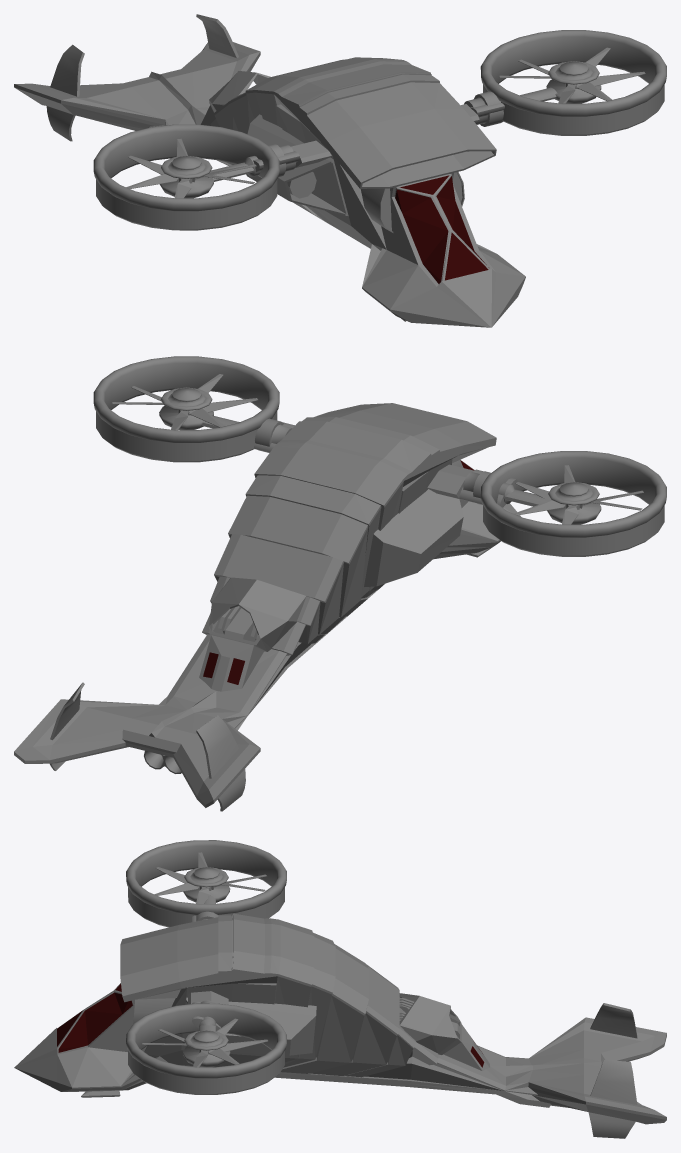
Rendered from drone.FBX.
The picture shows the model from 3 angles, top to bottom: view 1: azimuth 30°, elevation 25°; view 2: azimuth 150°, elevation 25°; view 3: azimuth 270°, elevation 25°; orthographic projection. The views are drawn at different scales.
Parts seen in each view (by area): view 1: Object115, Object117, Object119, Object118, Object116; view 2: Object115, Object117, Object119; view 3: Object115, Object117, Object119, Object118, Object116.
Part boxes in pixels (box(x1,y1,x2,y2)): Object115: box(14, 14, 666, 327); Object117: box(518, 59, 645, 103); Object119: box(128, 155, 256, 198); Object118: box(126, 138, 254, 188); Object116: box(499, 47, 611, 100); Object115: box(14, 356, 666, 811); Object117: box(131, 386, 257, 430); Object119: box(515, 482, 643, 524); Object115: box(14, 840, 666, 1138); Object117: box(158, 1029, 267, 1067); Object119: box(156, 867, 266, 903); Object118: box(154, 852, 265, 895); Object116: box(142, 1018, 239, 1064).
Size of the model in its own units: 2114 by 719 by 2521.
